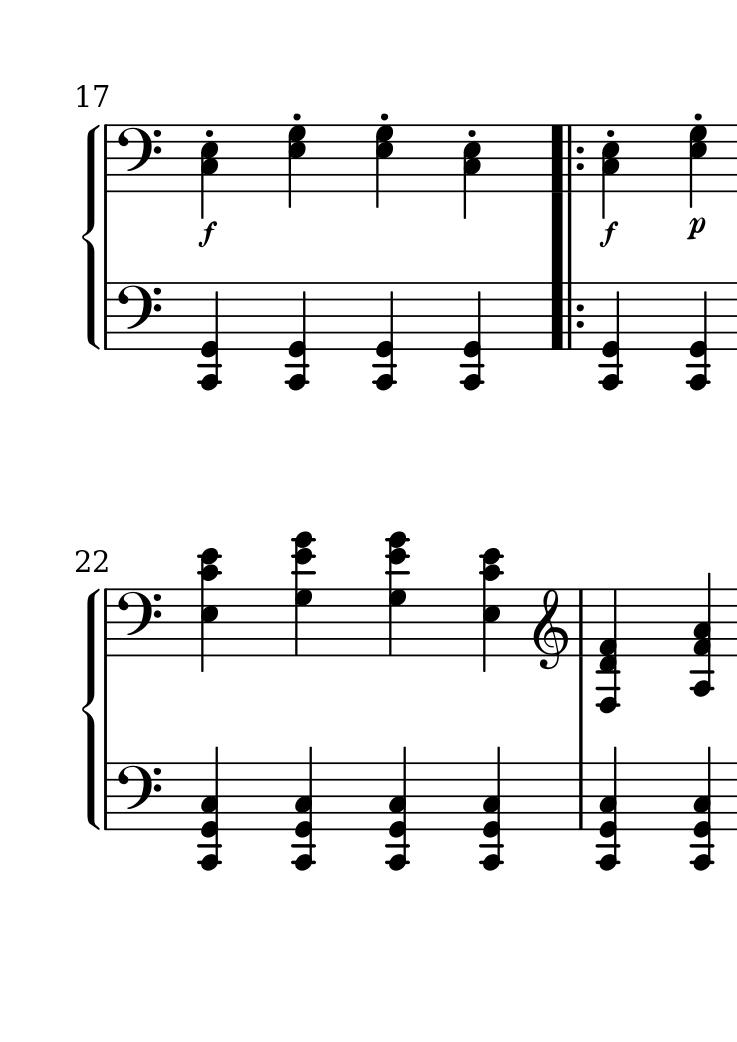1: (76, 82, 91, 111)
2: (73, 549, 92, 575), (92, 546, 108, 575)
4_-2_0: (198, 281, 223, 392), (284, 281, 309, 392), (371, 282, 396, 393), (460, 280, 485, 391), (597, 281, 622, 392), (686, 279, 711, 390)
4_th: (290, 747, 320, 872), (595, 744, 622, 877), (384, 531, 412, 659), (196, 546, 224, 673), (477, 546, 505, 673), (688, 745, 716, 871), (384, 747, 412, 872), (197, 747, 224, 874), (596, 586, 622, 717), (478, 743, 504, 872), (690, 571, 716, 698), (291, 531, 315, 658)
7: (93, 83, 108, 111)
Brace: (83, 586, 102, 829), (82, 125, 102, 350)
Fclef: (115, 587, 163, 658), (116, 281, 164, 351), (116, 762, 164, 832), (115, 124, 161, 194)
Gclef: (533, 587, 568, 671)
LeftRepeatSign: (548, 124, 588, 194), (547, 283, 586, 350)
Single_barline: (99, 763, 116, 830), (99, 126, 116, 191), (572, 763, 589, 828), (99, 592, 116, 656), (572, 591, 588, 656), (100, 283, 115, 350)
f: (197, 220, 218, 248), (598, 220, 619, 248)
p: (685, 215, 706, 243)
